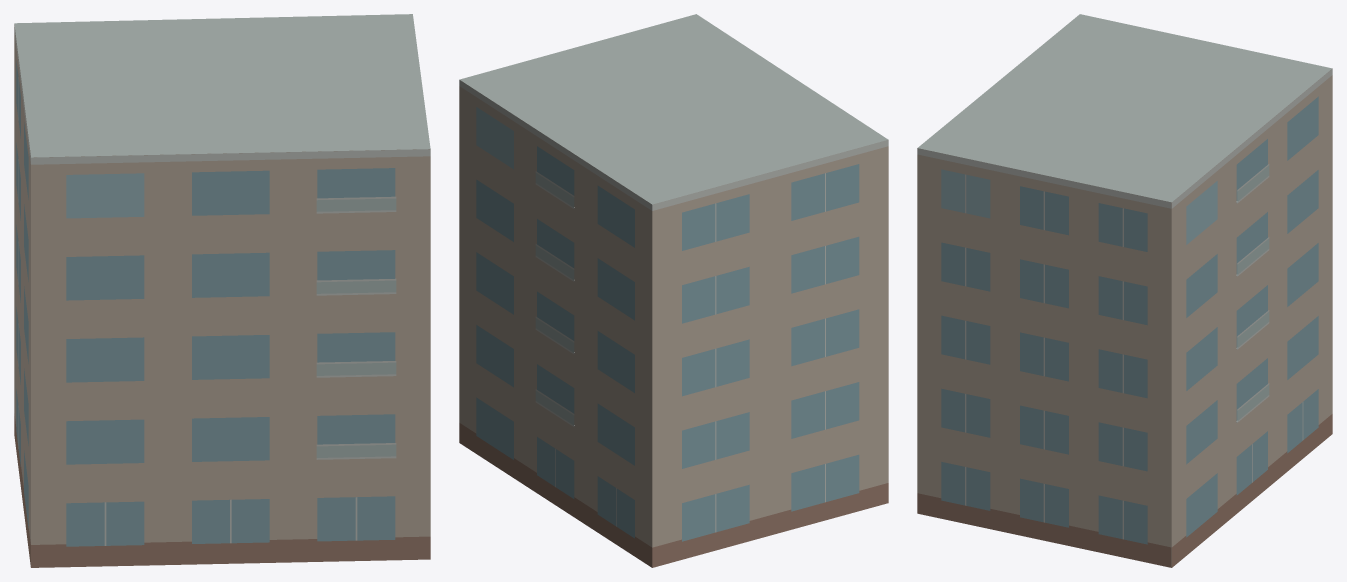
Rendered from survey-upis-32615086.glb.
3 views of the same model, side by side, from view 1: azimuth 30°, elevation 25°; view 2: azimuth 150°, elevation 25°; view 3: azimuth 270°, elevation 25° (orthographic). The views are drawn at different scales.
Parts seen in each view (by area): view 1: survey-upis-32615086.tmp; view 2: survey-upis-32615086.tmp; view 3: survey-upis-32615086.tmp.
Part boxes in pixels (x1,y1,x2,y2): survey-upis-32615086.tmp: (14,14,430,567); survey-upis-32615086.tmp: (459,14,888,567); survey-upis-32615086.tmp: (917,14,1332,567).
Size of the model in its own units: 15.26 by 13.8 by 14.22.
